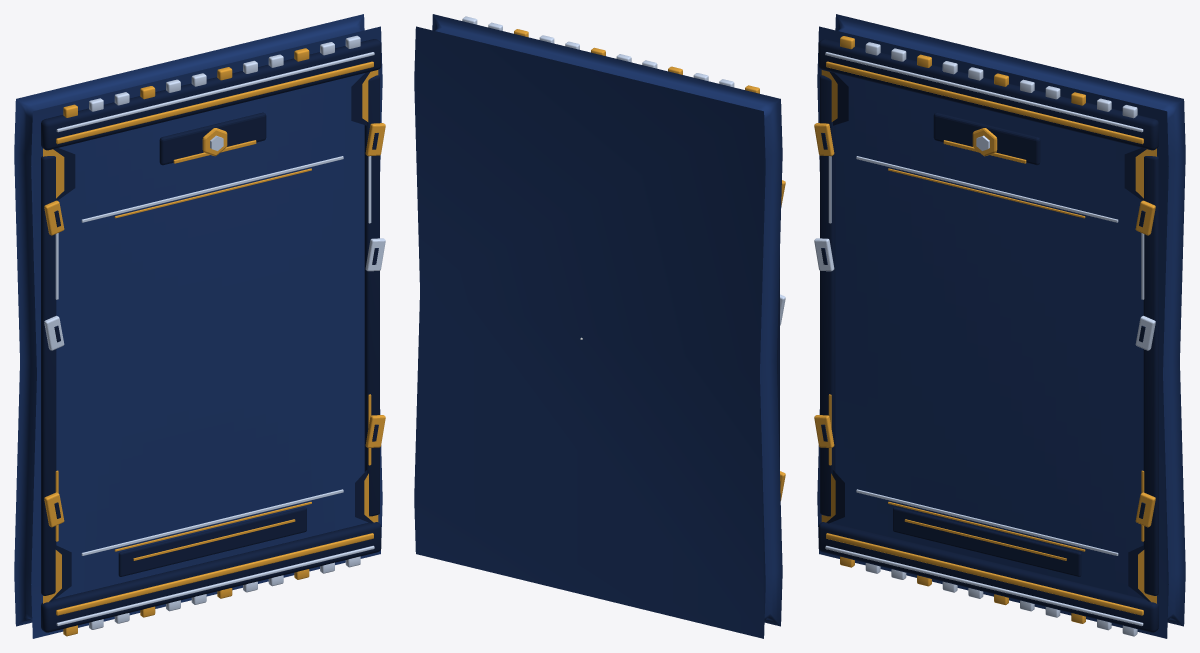
File: futhub-standard-pack.glb
The picture shows the model from 3 angles, left to right: view 1: azimuth 30°, elevation 25°; view 2: azimuth 150°, elevation 25°; view 3: azimuth 330°, elevation 25°; orthographic projection.
Parts seen in each view (by area): view 1: StudioPack_ReferenceFace, StudioPack_FoilBody, StudioPack_BottomNavySeal, StudioPack_TopNavySeal, StudioPack_SideGusset_L, StudioPack_SideGusset_R, StudioPack_LowerPlate, StudioPack_HubHeader, StudioPack_BottomGoldSeal, StudioPack_TopGoldSeal, StudioPack_TopChromeSeal, StudioPack_BottomChromeSeal (+7 smaller); view 2: StudioPack_FoilBody; view 3: StudioPack_ReferenceFace, StudioPack_FoilBody, StudioPack_BottomNavySeal, StudioPack_TopNavySeal, StudioPack_SideGusset_R, StudioPack_SideGusset_L, StudioPack_LowerPlate, StudioPack_HubHeader, StudioPack_BottomGoldSeal, StudioPack_TopGoldSeal, StudioPack_TopChromeSeal, StudioPack_BottomChromeSeal (+7 smaller).
Part boxes in pixels (<box>): StudioPack_ReferenceFace: <box>55,73,368,598</box>; StudioPack_FoilBody: <box>14,14,382,638</box>; StudioPack_BottomNavySeal: <box>41,522,381,632</box>; StudioPack_TopNavySeal: <box>41,39,381,150</box>; StudioPack_SideGusset_L: <box>41,156,56,595</box>; StudioPack_SideGusset_R: <box>364,75,379,516</box>; StudioPack_LowerPlate: <box>118,507,306,576</box>; StudioPack_HubHeader: <box>159,112,266,165</box>; StudioPack_BottomGoldSeal: <box>56,533,373,615</box>; StudioPack_TopGoldSeal: <box>56,61,373,144</box>; StudioPack_TopChromeSeal: <box>56,52,374,132</box>; StudioPack_BottomChromeSeal: <box>56,545,374,625</box>; StudioPack_FoilBody: <box>414,14,782,638</box>; StudioPack_ReferenceFace: <box>831,73,1144,598</box>; StudioPack_FoilBody: <box>817,14,1185,638</box>; StudioPack_BottomNavySeal: <box>818,522,1158,632</box>; StudioPack_TopNavySeal: <box>818,39,1158,150</box>; StudioPack_SideGusset_R: <box>1143,156,1158,595</box>; StudioPack_SideGusset_L: <box>820,75,835,516</box>; StudioPack_LowerPlate: <box>893,507,1081,576</box>; StudioPack_HubHeader: <box>933,112,1040,165</box>; StudioPack_BottomGoldSeal: <box>826,533,1143,615</box>; StudioPack_TopGoldSeal: <box>826,61,1143,144</box>; StudioPack_TopChromeSeal: <box>825,52,1143,132</box>; StudioPack_BottomChromeSeal: <box>825,545,1143,625</box>.
Size of the model in its own units: 4.79 by 6.87 by 0.8635.
